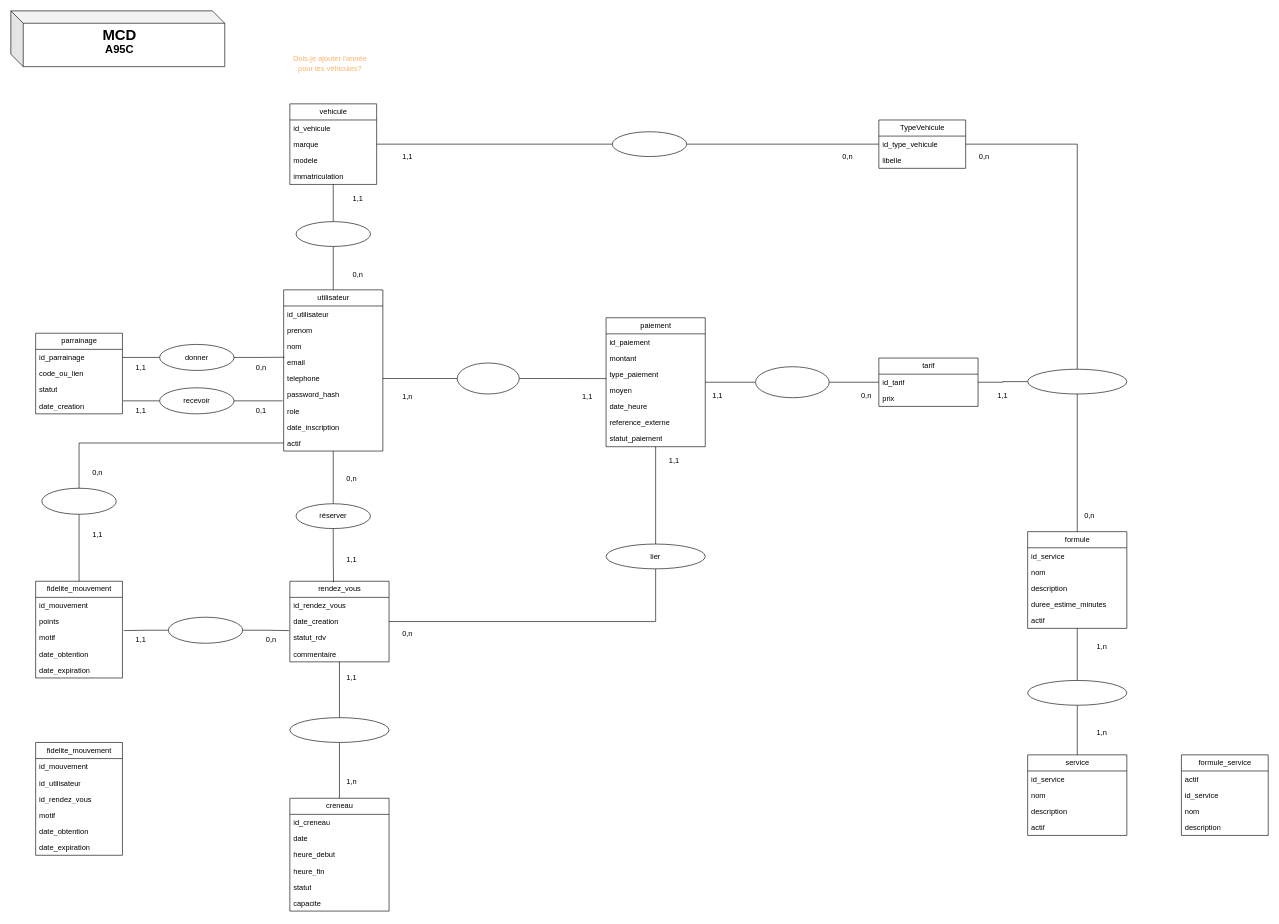
The diagram is 1279 pixels wide and 924 high, and some of its shapes have lost their labels. Here are the shapes that lost their labels. From the top down, the centre of each, then its label:
(x=649, y=144): appartenir
(x=332, y=233): possèder
(x=488, y=378): régler
(x=792, y=382): possède
(x=1077, y=381): dépendre
(x=78, y=501): disposer
(x=205, y=630): approvisionner
(x=1077, y=692): inclure
(x=339, y=729): occuper
